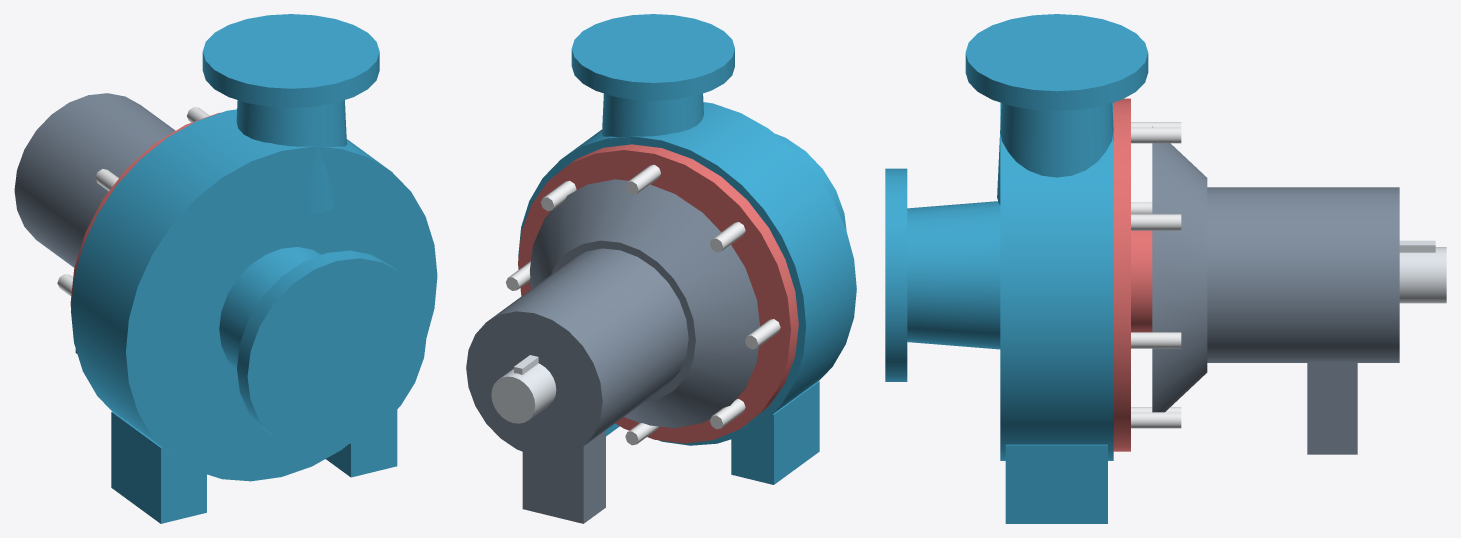
Rendered from centrifugal_pump_iso2858.glb.
The picture shows the model from 3 angles, left to right: view 1: azimuth 30°, elevation 25°; view 2: azimuth 150°, elevation 25°; view 3: azimuth 270°, elevation 25°; orthographic projection. The views are drawn at different scales.
Parts seen in each view (by area): view 1: pump-volute-casing, pump-bearing-bracket, pump-fasteners, pump-mechanical-seal; view 2: pump-bearing-bracket, pump-volute-casing, pump-mechanical-seal, pump-fasteners, pump-shaft; view 3: pump-volute-casing, pump-bearing-bracket, pump-mechanical-seal, pump-fasteners, pump-shaft.
Boxes of the visible parts, x1,y1,x2,y2 form: pump-volute-casing: [71, 14, 437, 523]; pump-bearing-bracket: [14, 93, 175, 353]; pump-fasteners: [57, 107, 209, 296]; pump-mechanical-seal: [70, 112, 220, 309]; pump-bearing-bracket: [466, 179, 759, 523]; pump-volute-casing: [518, 14, 856, 484]; pump-mechanical-seal: [518, 144, 798, 443]; pump-fasteners: [506, 164, 780, 445]; pump-shaft: [491, 355, 556, 423]; pump-volute-casing: [885, 14, 1148, 523]; pump-bearing-bracket: [1152, 126, 1399, 454]; pump-mechanical-seal: [1113, 98, 1152, 451]; pump-fasteners: [1131, 122, 1181, 428]; pump-shaft: [1399, 240, 1446, 303].
Bounding box in the file's own units: 2.36 × 3.02 × 3.56.
